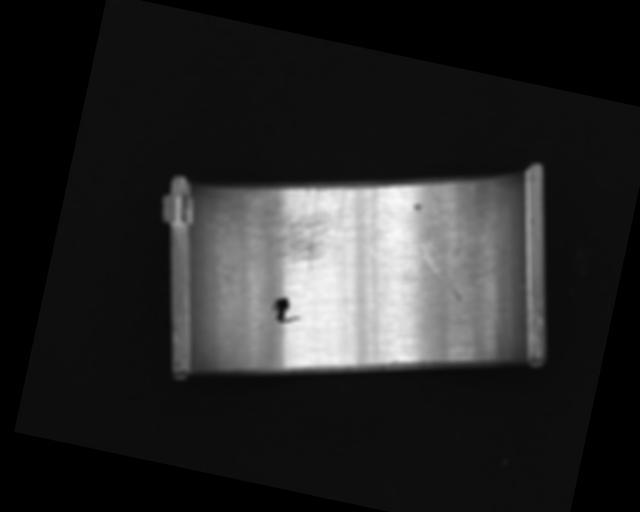blot: (269, 294, 304, 326)
bruise: (413, 202, 425, 213)
nick: (344, 244, 410, 367), (465, 268, 527, 363), (410, 245, 470, 301), (420, 196, 444, 252)
scratch: (224, 165, 359, 276)
